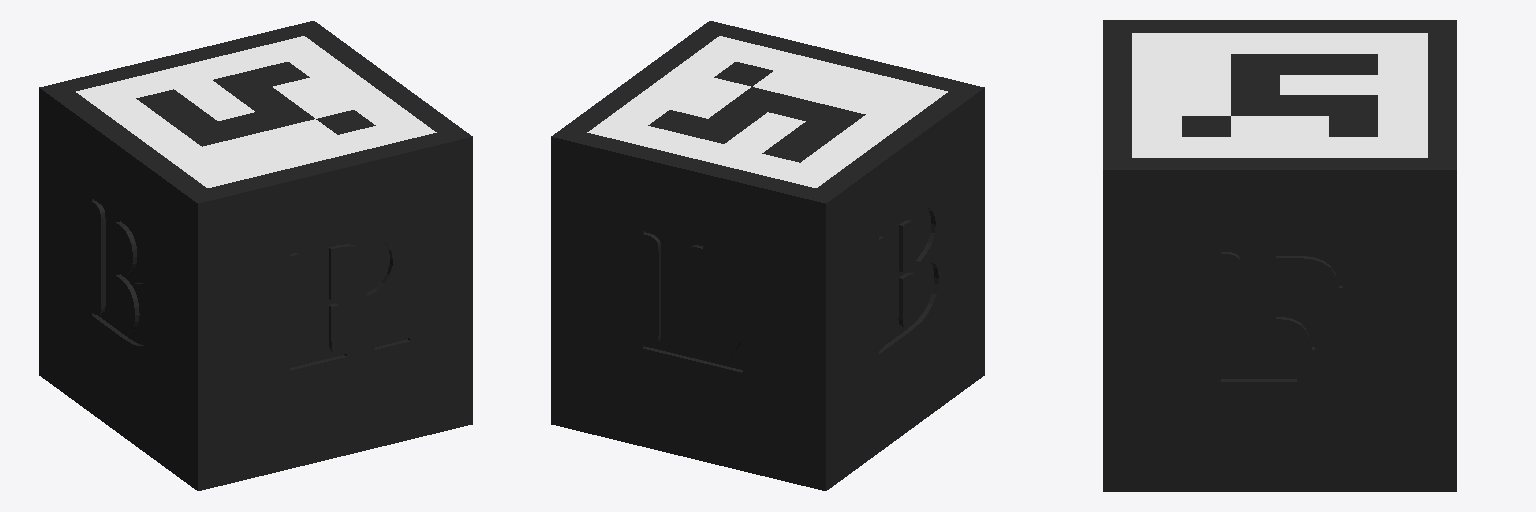
URDF robot description (cube-06):
<?xml version="1.0" encoding="utf-8"?>
<!-- This URDF was automatically created by SolidWorks to URDF Exporter! Originally created by [author] ([email redacted]) 
     Commit Version: 1.6.0-1-g15f4949  Build Version: 1.6.7594.29634
     For more information, please see http://wiki.ros.org/sw_urdf_exporter -->
<robot
  name="cube-06">
  <link
    name="base_link">
    <inertial>
      <origin
        xyz="0 0 0"
        rpy="0 0 0" />
      <mass
        value="0.00187963056678342" />
      <inertia
        ixx="4.67648900046542E-07"
        ixy="-6.20165257082959E-09"
        ixz="-1.41758459243068E-24"
        iyy="4.59239386606631E-07"
        iyz="3.04784998736678E-23"
        izz="9.26575014892043E-07" />
    </inertial>
    <visual>
      <origin
        xyz="0 0 0"
        rpy="0 0 0" />
      <geometry>
        <mesh
          filename="package://cube-06/meshes/base_link.STL" />
      </geometry>
      <material
        name="baseColor">
        <color
          rgba="0.2 0.2 0.2 1" />
      </material>
    </visual>
    <collision>
      <origin
        xyz="0 0 0"
        rpy="0 0 0" />
      <geometry>
        <mesh
          filename="package://cube-06/meshes/base_link.STL" />
      </geometry>
    </collision>
  </link>
  <link
    name="black">
    <inertial>
      <origin
        xyz="0 0 0"
        rpy="0 0 0" />
      <mass
        value="0.00187963056678343" />
      <inertia
        ixx="4.67648900046543E-07"
        ixy="-9.35650608655308E-25"
        ixz="6.2016525708296E-09"
        iyy="9.26575014892044E-07"
        iyz="7.82826049599551E-26"
        izz="4.59239386606632E-07" />
    </inertial>
    <visual>
      <origin
        xyz="0 0 0"
        rpy="0 0 0" />
      <geometry>
        <mesh
          filename="package://cube-06/meshes/black.STL" />
      </geometry>
      <material
        name="codeColor">
        <color
          rgba="1 1 1 1" />
      </material>
    </visual>
    <collision>
      <origin
        xyz="0 0 0"
        rpy="0 0 0" />
      <geometry>
        <mesh
          filename="package://cube-06/meshes/black.STL" />
      </geometry>
    </collision>
  </link>
  <joint
    name="j1"
    type="fixed">
    <origin
      xyz="-0.05934 0.025 0.020733"
      rpy="1.5708 0 0" />
    <parent
      link="base_link" />
    <child
      link="black" />
    <axis
      xyz="0 0 0" />
  </joint>
</robot>

--- Facts derived from the render (not from the file) ---
The picture shows the robot from 3 angles, left to right: view 1: azimuth 30°, elevation 25°; view 2: azimuth 150°, elevation 25°; view 3: azimuth 270°, elevation 25°; orthographic projection.
Robot: cube-06 — 2 links, 1 joints (1 fixed); root link base_link; default pose: every joint at zero.
Visible links, largest first — view 1: base_link, black; view 2: base_link, black; view 3: base_link, black.
Boxes of the visible links, x1=… form: base_link: x1=39, y1=21, x2=472, y2=490; black: x1=76, y1=36, x2=436, y2=187; base_link: x1=551, y1=21, x2=984, y2=490; black: x1=587, y1=36, x2=947, y2=187; base_link: x1=1103, y1=20, x2=1456, y2=491; black: x1=1132, y1=33, x2=1427, y2=157.
Bounding box of the posed robot: 0.06 × 0.06 × 0.06 m (x, y, z).
2 mesh visuals loaded from 2 distinct referenced files (2 binary STL).